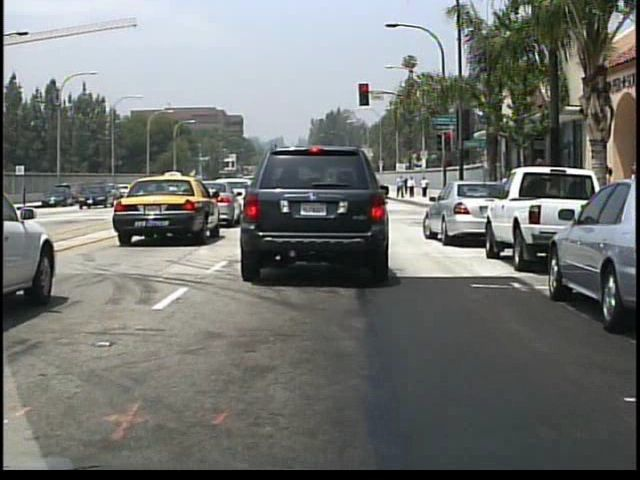person: (592, 163, 616, 235), (420, 177, 430, 200), (398, 175, 407, 199), (409, 176, 417, 200)
